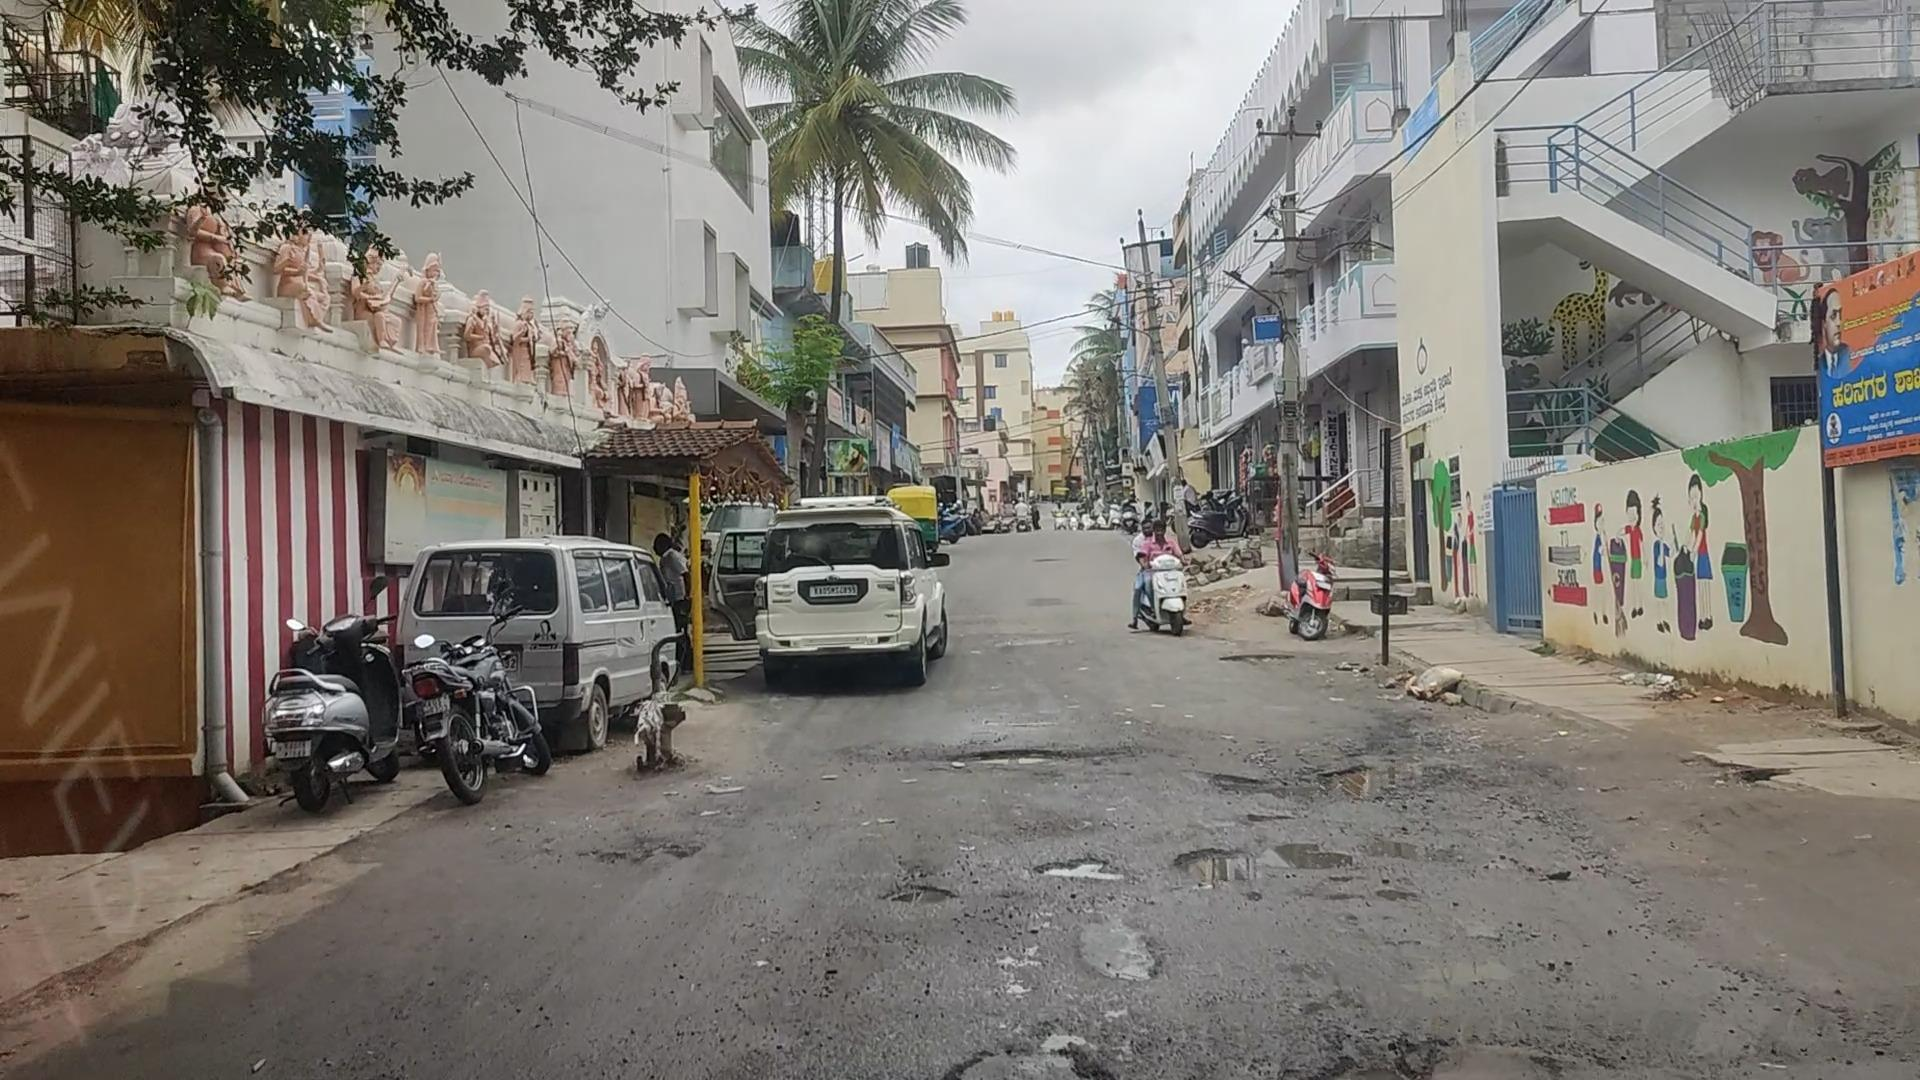LMV: (1126, 516, 1189, 624)
RoadDamages: (897, 1005, 1139, 1080), (1331, 1014, 1600, 1080), (1369, 829, 1487, 934), (1171, 831, 1352, 891), (1211, 754, 1427, 802), (918, 731, 1114, 773), (1044, 910, 1167, 977), (1034, 824, 1114, 890), (872, 873, 960, 911)
